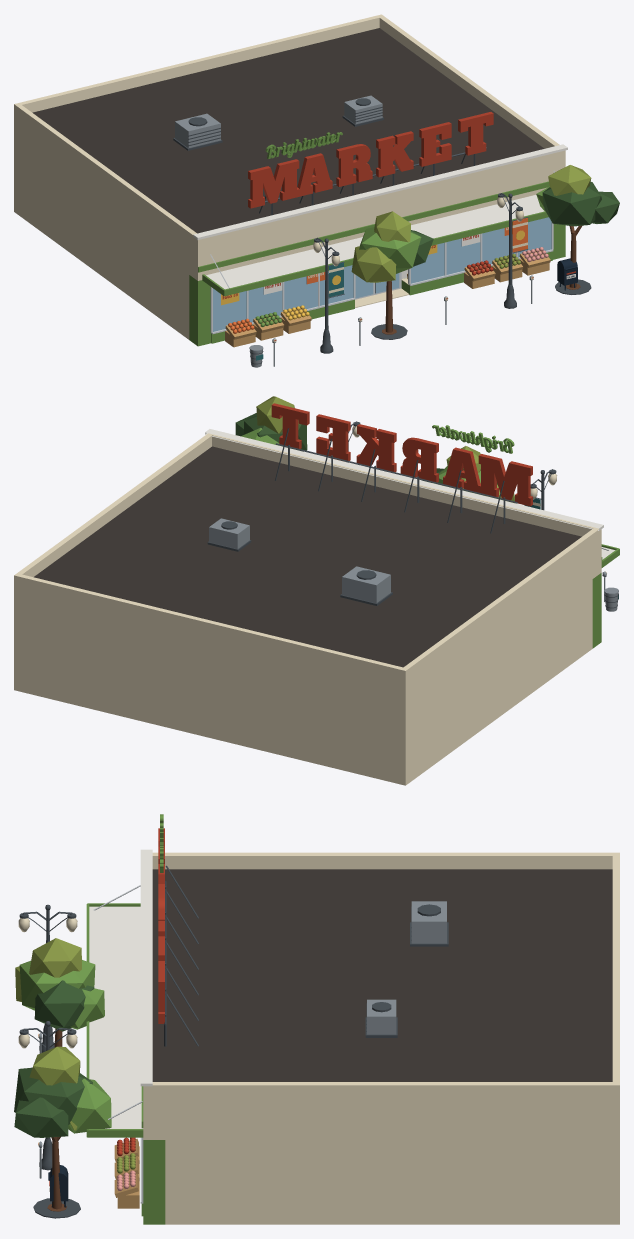
Rendered from Lobby_BlockMarket.fbx.
3 renders of one model, top to bottom at view 1: azimuth 30°, elevation 25°; view 2: azimuth 150°, elevation 25°; view 3: azimuth 270°, elevation 25°, orthographic. The views are drawn at different scales.
Visible parts, largest first — view 1: Decor, DecorGlassSkyblue, DecorGlassSkyblue_; view 2: Decor; view 3: Decor, DecorNeonCream.
Part boxes in pixels (bbox=[...]): Decor: bbox=[14, 14, 619, 367]; DecorGlassSkyblue: bbox=[213, 217, 551, 331]; DecorGlassSkyblue_: bbox=[355, 273, 399, 298]; Decor: bbox=[14, 396, 619, 785]; Decor: bbox=[14, 814, 619, 1224]; DecorNeonCream: bbox=[18, 918, 77, 1048].
Size of the model in its own units: 62.04 by 27.51 by 66.11.
